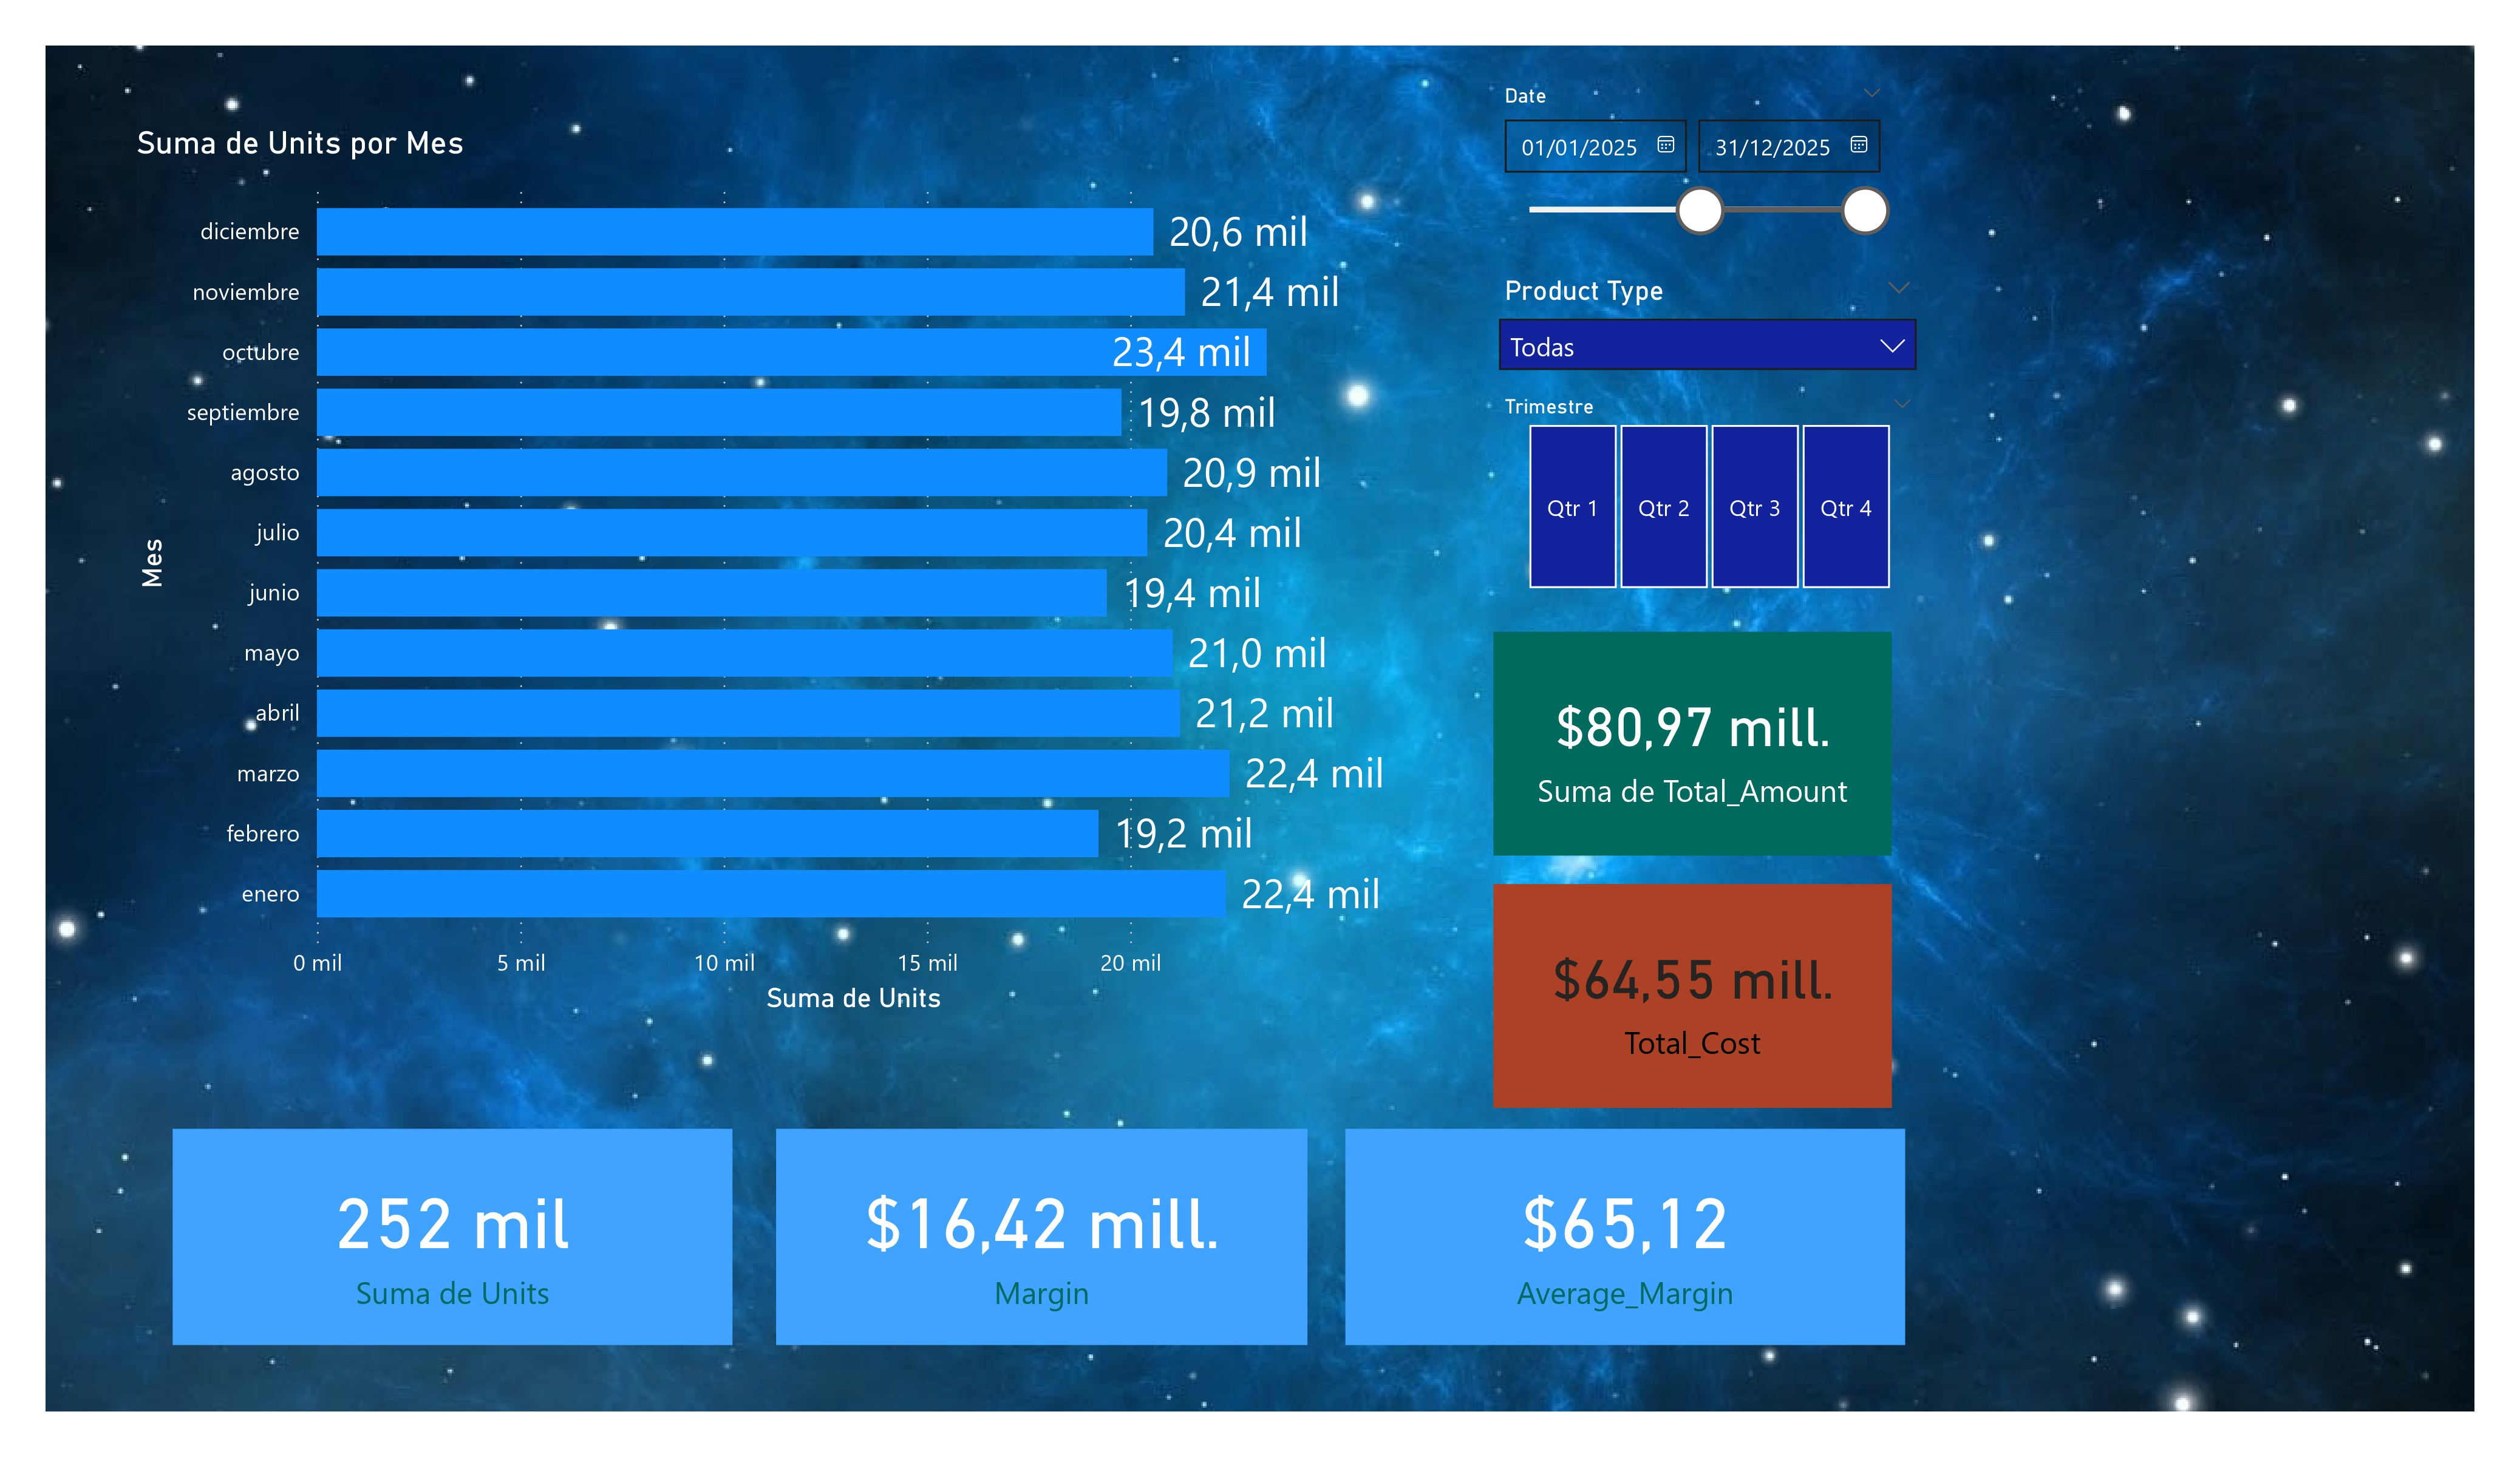

The page's visual inventory and layout, read from the dashboard file:
{"tool":"powerbi","page":{"name":"Units","canvas":[1280,720],"ordinal":0},"visuals":[{"type":"slicer","fields":{"Values":["Sheet1.Date"]},"box":[756.4,15.5,223.6,90.9],"z":0},{"type":"slicer","fields":{"Values":["Sheet1.Id_Product_Type"]},"box":[756.4,116.4,240,62.7],"z":1000},{"type":"slicer","fields":{"Values":["Sheet1.Date.Variación.Jerarquía de fechas.Trimestre"]},"box":[756.4,179.1,240,113.6],"z":2000},{"type":"clusteredBarChart","fields":{"Y":["Sum(Sheet1.Units)"],"Category":["Sheet1.Date.Variación.Jerarquía de fechas.Mes"]},"box":[42.7,40.9,688.2,474.5],"z":3000},{"type":"card","fields":{"Values":["Sum(Sheet1.Total_Amount)"]},"box":[762.7,309.1,210,118.2],"z":4000},{"type":"card","fields":{"Values":["Sheet1.Total_Cost"]},"box":[762.7,441.8,210,118.2],"z":5000},{"type":"card","fields":{"Values":["Sheet1.Margin"]},"box":[385.5,570.9,279.1,113.6],"z":6000},{"type":"card","fields":{"Values":["Sum(Sheet1.Units)"]},"box":[67.3,570.9,294.5,113.6],"z":7000},{"type":"card","fields":{"Values":["Sheet1.Average_Margin"]},"box":[685.5,570.9,294.5,114.5],"z":8000}]}

Visuals, with their boxes on the page's 1280x720 design canvas (x1, y1, x2, y2). These are canvas units, not pixel positions in the 2520x1457 screenshot, which may show the page scaled, cropped or inside an application window:
slicer - Sheet1.Date: 756 16 980 106
slicer - Sheet1.Id_Product_Type: 756 116 996 179
slicer - Sheet1.Date.Variación.Jerarquía de fechas.Trimestre: 756 179 996 293
clusteredBarChart - Sum(Sheet1.Units) x Sheet1.Date.Variación.Jerarquía de fechas.Mes: 43 41 731 515
card - Sum(Sheet1.Total_Amount): 763 309 973 427
card - Sheet1.Total_Cost: 763 442 973 560
card - Sheet1.Margin: 386 571 665 684
card - Sum(Sheet1.Units): 67 571 362 684
card - Sheet1.Average_Margin: 686 571 980 685
